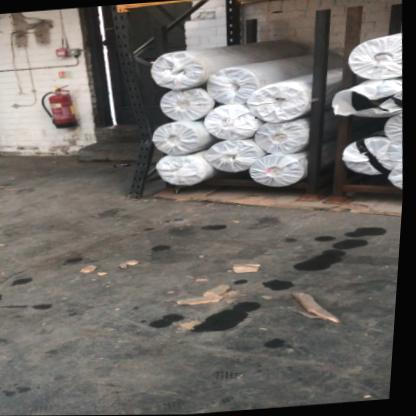vertical_damage: (122, 112, 166, 180)
